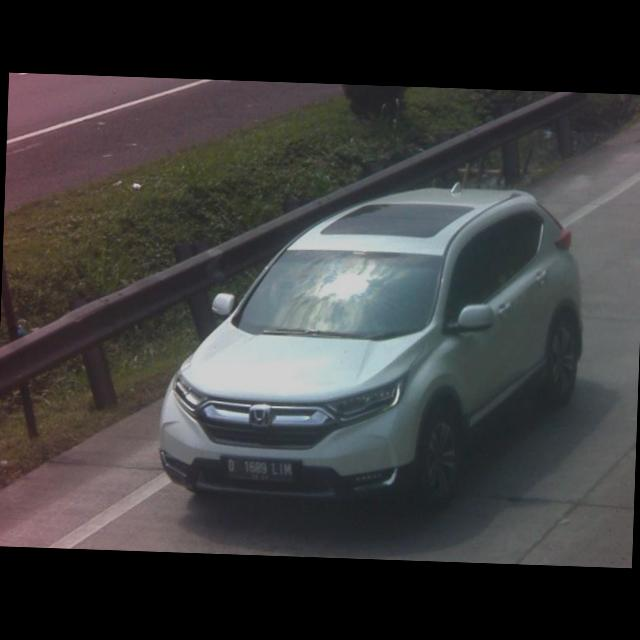plate: (220, 455, 293, 485)
